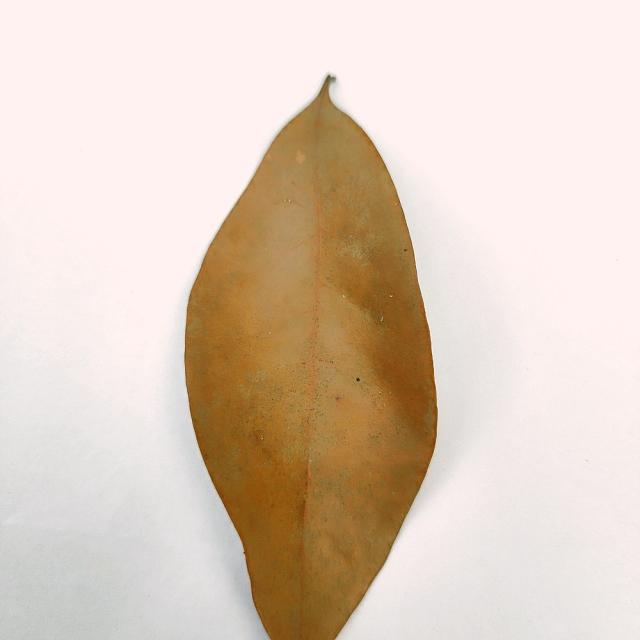Dry_Leaf-Lychee: (182, 77, 438, 639)
